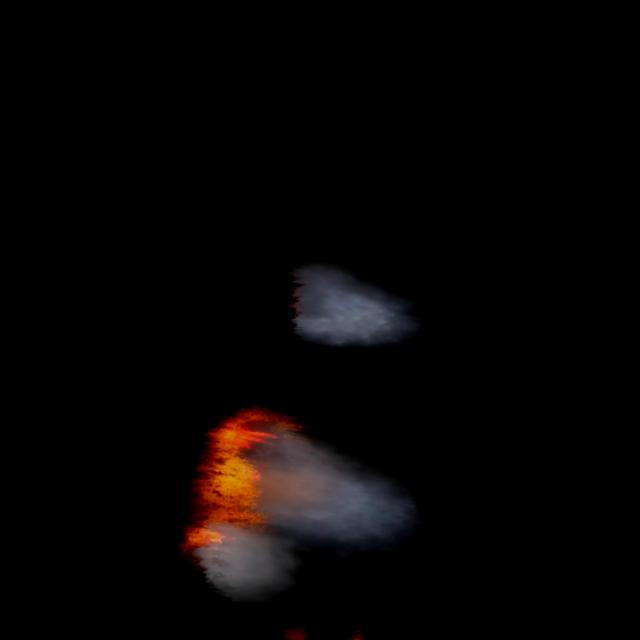fire: (174, 400, 298, 560)
smoke: (182, 400, 456, 632), (274, 253, 446, 358)
